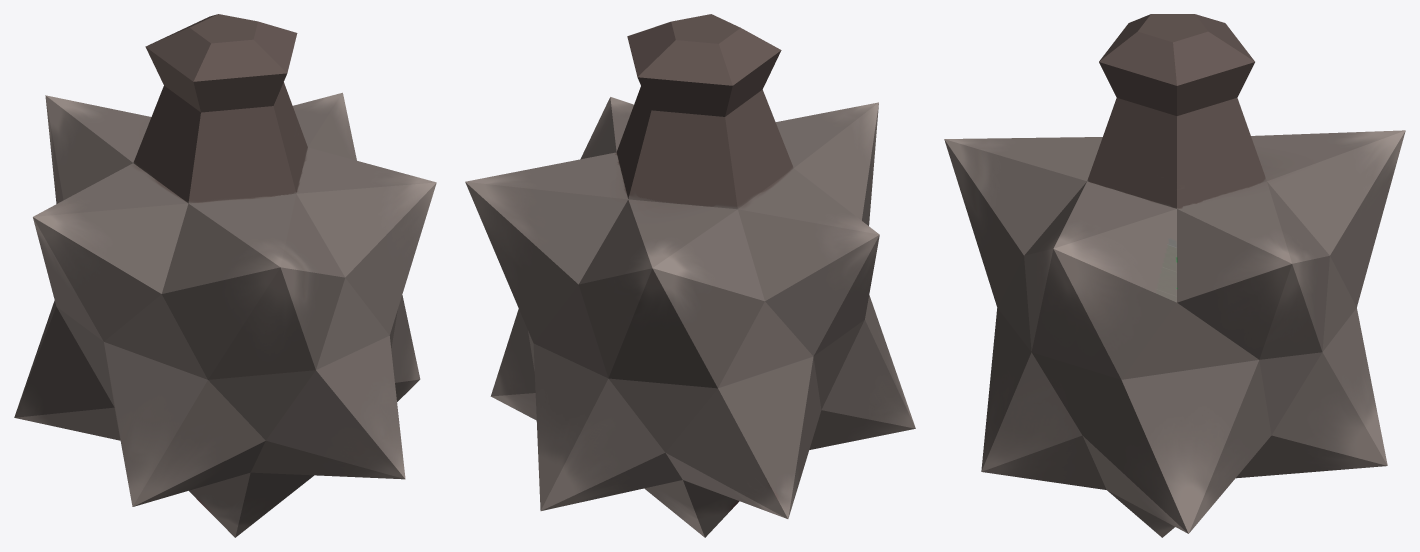
The model's file is MaceArm 1.glb.
3 views of the same model, side by side, from view 1: azimuth 30°, elevation 25°; view 2: azimuth 150°, elevation 25°; view 3: azimuth 270°, elevation 25° (orthographic).
Visible parts, largest first — view 1: MaceArm; view 2: MaceArm; view 3: MaceArm.
Part boxes in pixels (left/top/right/bottom): MaceArm: left=14, top=14, right=436, bottom=537; MaceArm: left=465, top=14, right=915, bottom=537; MaceArm: left=944, top=14, right=1405, bottom=537.
Size of the model in its own units: 2.42 by 3.03 by 2.49.
1 material, 1 textured.
